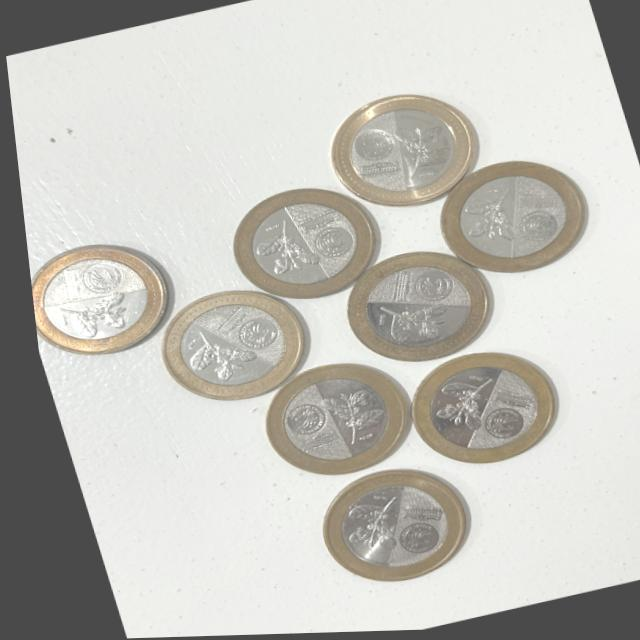20_New_Back: (326, 495, 403, 562), (419, 378, 498, 443), (447, 187, 524, 253), (245, 214, 319, 282), (173, 323, 249, 388), (365, 296, 448, 351), (309, 388, 379, 453), (386, 121, 456, 185), (48, 290, 130, 342)
